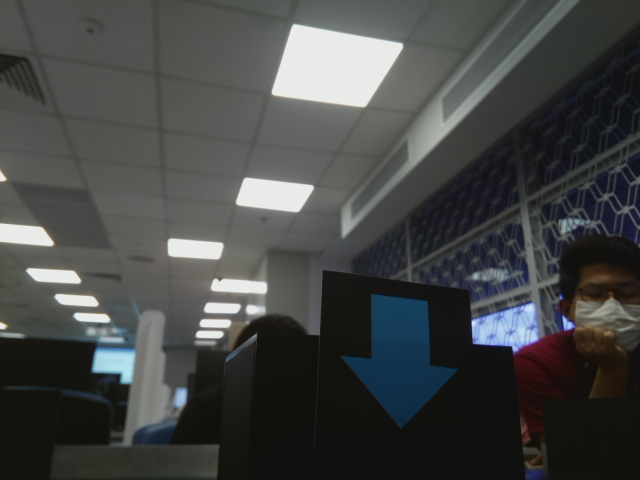down: (338, 285, 467, 424)
